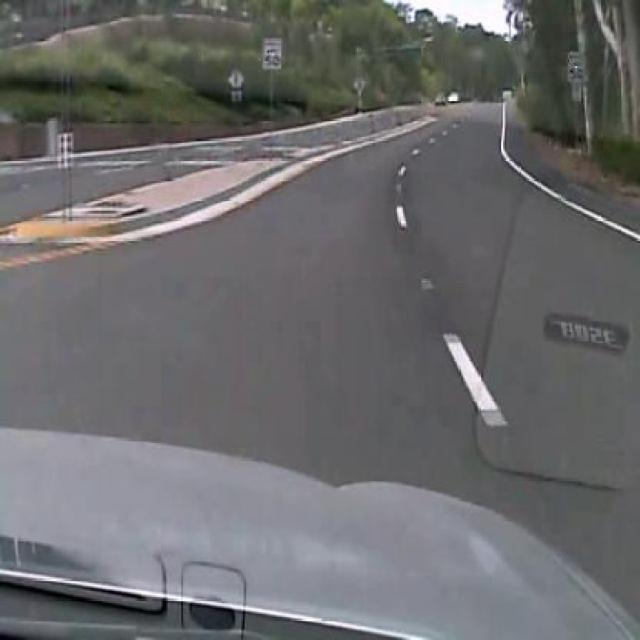speedLimitUrdbl: (566, 49, 586, 83), (262, 37, 282, 68)
